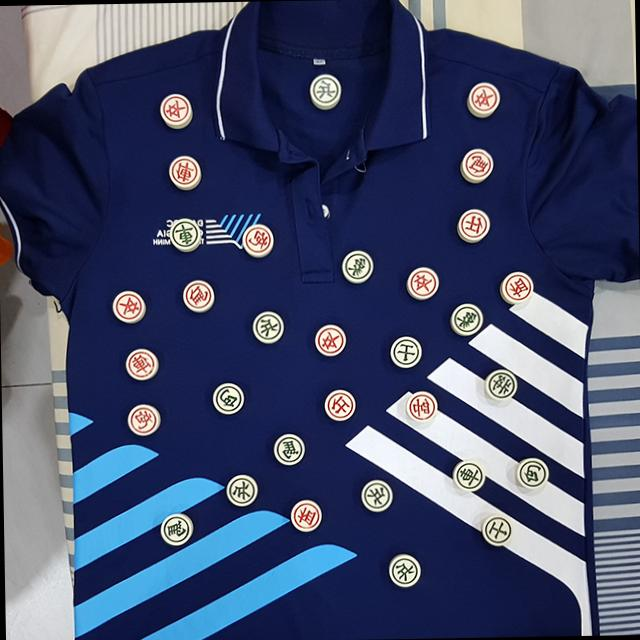black-advisor: (389, 334, 422, 369), (481, 514, 512, 546)
black-cannon: (212, 379, 246, 416), (513, 456, 550, 489)
black-chariot: (449, 458, 486, 492), (167, 215, 200, 253)
black-elephant: (448, 301, 485, 337), (340, 248, 374, 284)
black-general: (484, 369, 517, 400)
black-horse: (270, 431, 307, 466), (159, 511, 193, 547)
black-soldier: (307, 70, 343, 110), (386, 551, 422, 589), (358, 477, 394, 513), (224, 472, 258, 508), (252, 308, 284, 344)
red-advisor: (454, 207, 493, 244), (320, 386, 358, 422)
red-cannon: (124, 402, 160, 439), (241, 222, 275, 258)
red-chariot: (165, 153, 203, 190), (121, 346, 160, 382)
red-elephant: (498, 268, 536, 306), (286, 498, 325, 534)
red-general: (407, 388, 437, 426)
red-horse: (459, 145, 496, 181), (180, 278, 216, 312)
red-soldier: (404, 263, 442, 302), (110, 288, 146, 326), (464, 80, 502, 114), (160, 90, 193, 126), (312, 323, 346, 356)
